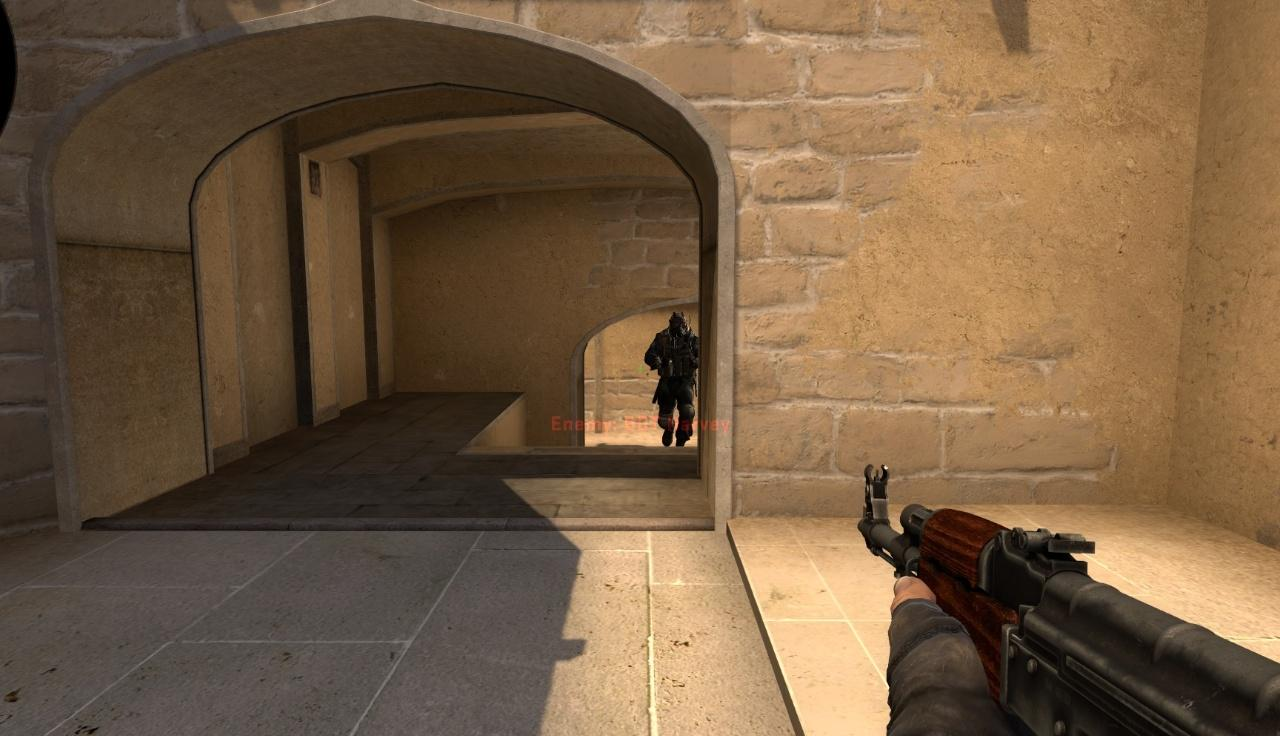ct: (644, 313, 698, 447)
cthead: (669, 312, 690, 338)
rifle: (856, 464, 1280, 736)
